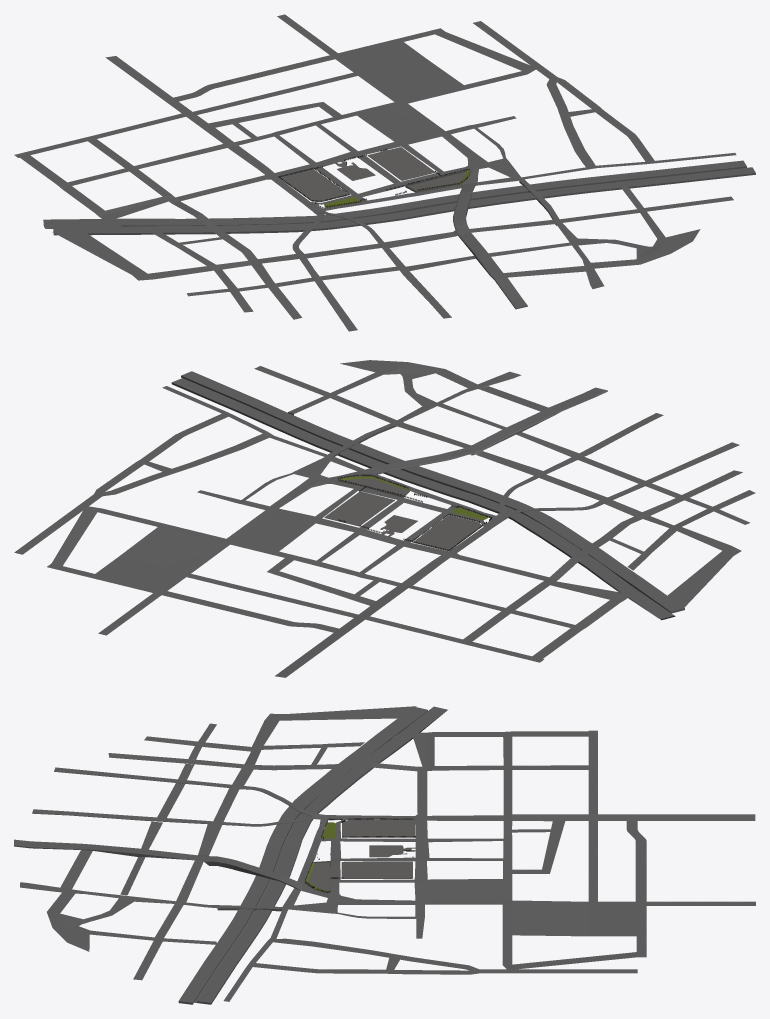
The model's file is road.glb.
The picture shows the model from 3 angles, top to bottom: view 1: azimuth 30°, elevation 25°; view 2: azimuth 150°, elevation 25°; view 3: azimuth 270°, elevation 25°; orthographic projection. The views are drawn at different scales.
Parts seen in each view (by area): view 1: ROAD RAW_.001; view 2: ROAD RAW_.001; view 3: ROAD RAW_.001.
Boxes of the visible parts, <box> form: ROAD RAW_.001: <box>14,14,755,331</box>; ROAD RAW_.001: <box>14,360,755,677</box>; ROAD RAW_.001: <box>14,706,755,1004</box>.
Size of the model in its own units: 84.59 by 0.8651 by 89.21.
1 material, 1 textured.
